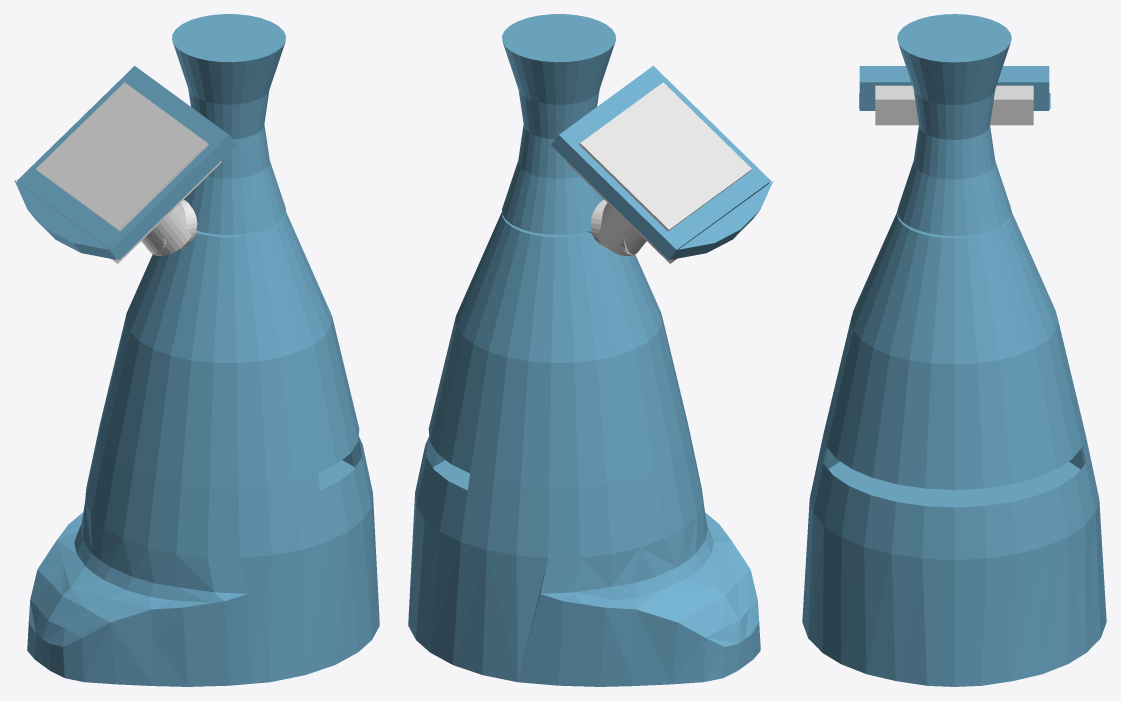
Rendered from scitos_1.dae.
The picture shows the model from 3 angles, left to right: view 1: azimuth 30°, elevation 25°; view 2: azimuth 150°, elevation 25°; view 3: azimuth 270°, elevation 25°; orthographic projection.
Parts seen in each view (by area): view 1: Chassis, Body2, Body3, Body1, screen_screen, sc_body1, Body7, Body4, sc_body2, Body6, Body5, sc_body4; view 2: Chassis, Body2, Body3, Body1, screen_screen, sc_body1, Body7, Body4, sc_body2, Body6, Body5, sc_body4; view 3: Chassis, Body2, Body3, Body1, Body7, Body4, sc_body3, Body5, sc_body1, Body6.
Boxes of the visible parts, left/top/right/bottom form: Chassis: left=27, top=494, right=379, bottom=686; Body2: left=98, top=314, right=359, bottom=487; Body3: left=125, top=212, right=332, bottom=362; Body1: left=85, top=426, right=372, bottom=557; screen_screen: left=36, top=82, right=208, bottom=231; sc_body1: left=17, top=66, right=236, bottom=259; Body7: left=172, top=14, right=285, bottom=104; Body4: left=184, top=160, right=285, bottom=234; sc_body2: left=14, top=180, right=116, bottom=259; Body6: left=188, top=89, right=269, bottom=139; Body5: left=208, top=125, right=269, bottom=178; sc_body4: left=141, top=203, right=191, bottom=255; Chassis: left=408, top=491, right=760, bottom=686; Body2: left=428, top=315, right=689, bottom=487; Body3: left=456, top=211, right=662, bottom=362; Body1: left=415, top=426, right=702, bottom=557; screen_screen: left=579, top=82, right=751, bottom=231; sc_body1: left=551, top=66, right=770, bottom=259; Body7: left=502, top=14, right=615, bottom=104; Body4: left=502, top=161, right=603, bottom=234; sc_body2: left=670, top=180, right=773, bottom=259; Body6: left=518, top=89, right=599, bottom=139; Body5: left=518, top=125, right=579, bottom=178; sc_body4: left=596, top=203, right=646, bottom=255; Chassis: left=802, top=500, right=1106, bottom=686; Body2: left=823, top=321, right=1085, bottom=489; Body3: left=850, top=212, right=1058, bottom=364; Body1: left=809, top=435, right=1099, bottom=559; Body7: left=897, top=14, right=1011, bottom=104; Body4: left=897, top=161, right=1011, bottom=235; sc_body3: left=875, top=85, right=1033, bottom=125; Body5: left=913, top=126, right=995, bottom=179; sc_body1: left=859, top=66, right=1049, bottom=110; Body6: left=914, top=91, right=994, bottom=139.
Size of the model in its own units: 0.6774 by 0.5569 by 1.18.
